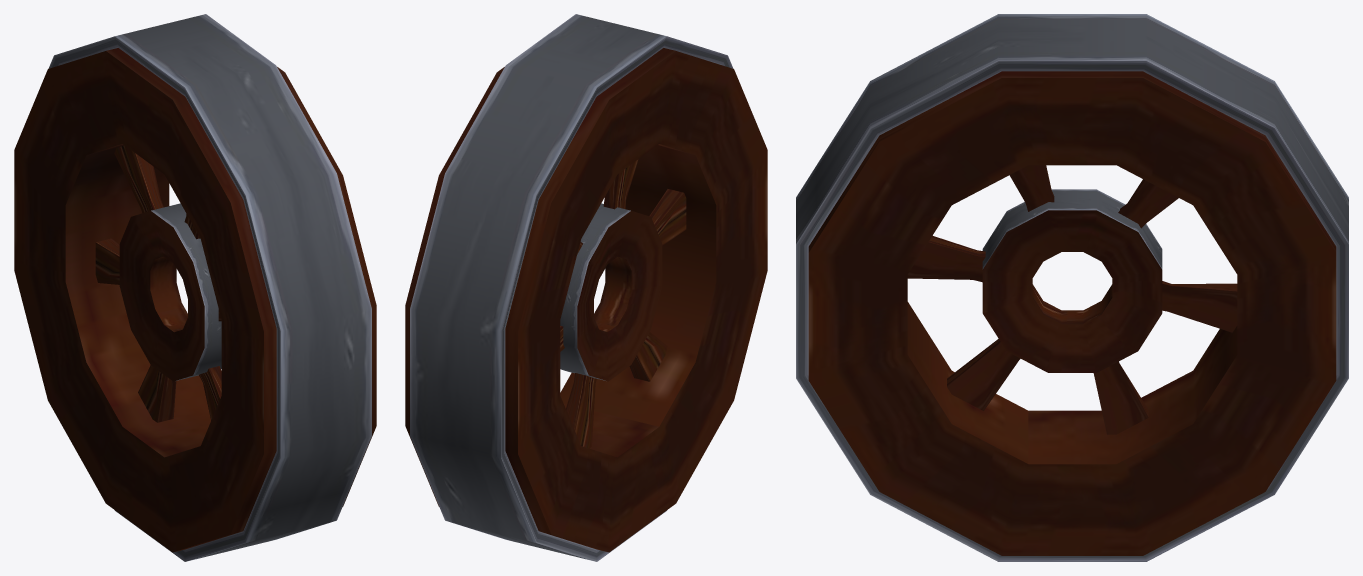
The model's file is SM_PROP_cart_wheel_big_R_03.glb.
3 views of the same model, side by side, from view 1: azimuth 30°, elevation 25°; view 2: azimuth 150°, elevation 25°; view 3: azimuth 270°, elevation 25° (orthographic). The views are drawn at different scales.
Parts seen in each view (by area): view 1: SM_PROP_cart_wheel_big_R_03_EXPORT; view 2: SM_PROP_cart_wheel_big_R_03_EXPORT; view 3: SM_PROP_cart_wheel_big_R_03_EXPORT.
Part boxes in pixels (x1,y1,x2,y2): SM_PROP_cart_wheel_big_R_03_EXPORT: (14,14,376,561); SM_PROP_cart_wheel_big_R_03_EXPORT: (405,14,767,561); SM_PROP_cart_wheel_big_R_03_EXPORT: (796,14,1348,561).
Size of the model in its own units: 0.4384 by 1.77 by 1.77.
Materials: 2 (2 with a texture image).
